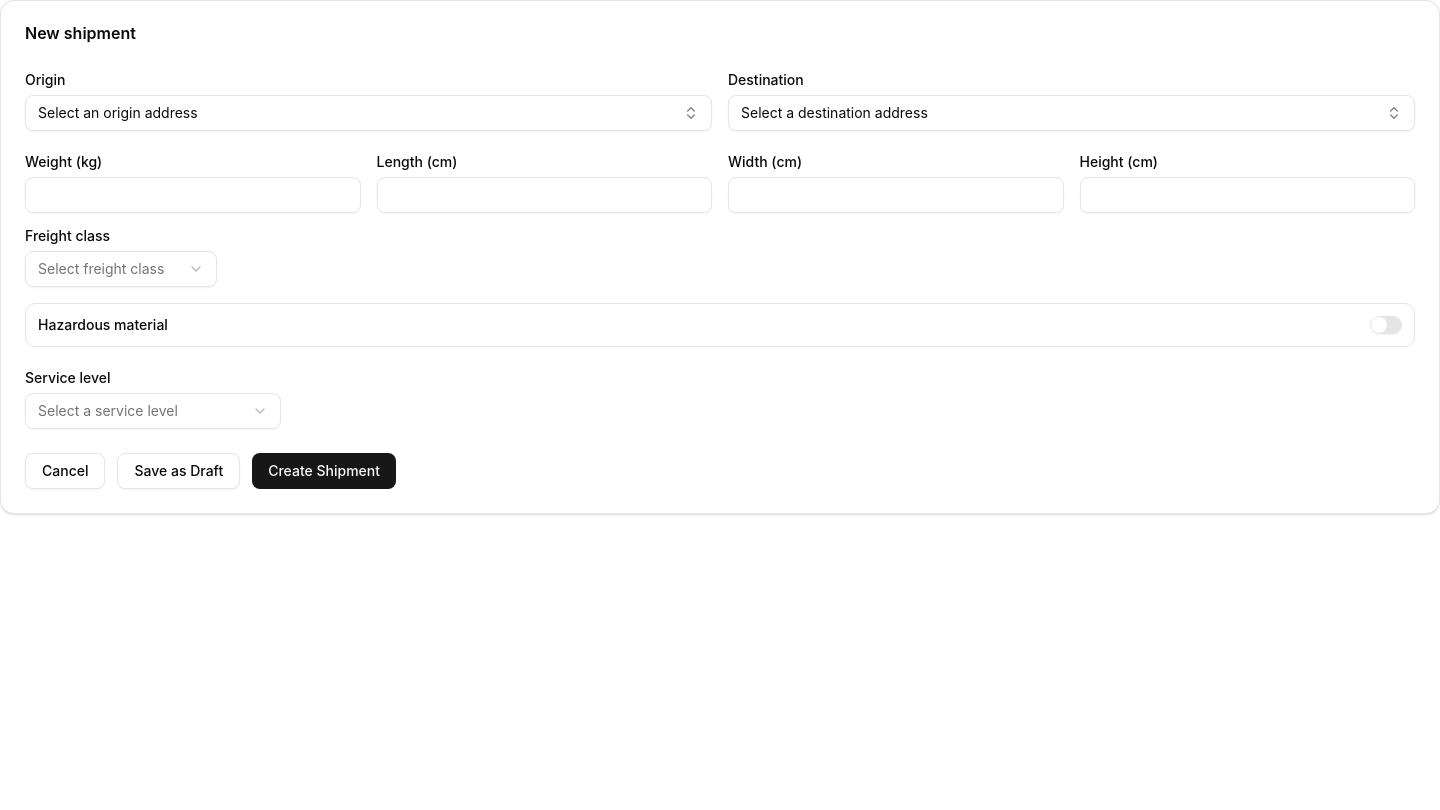
it: NewShipmentPage › saves as draft even when every field is empty, showing a success toast
The width and height of the screenshot is (1440, 810).
Click the button "Save as Draft" at (179, 471), box [118,453,240,489]
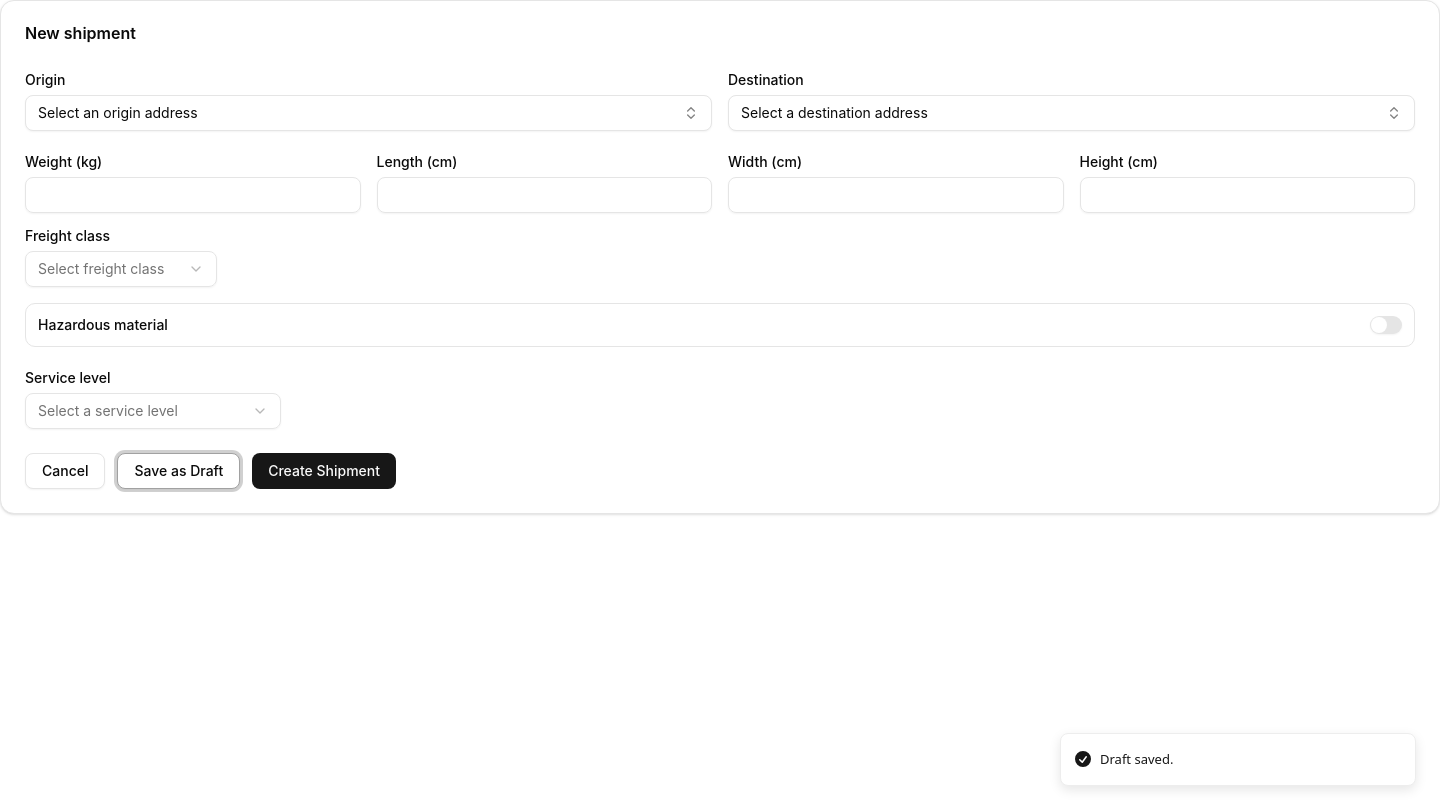
Check: the text "Draft saved." is shown, box [1100,750,1173,769]
